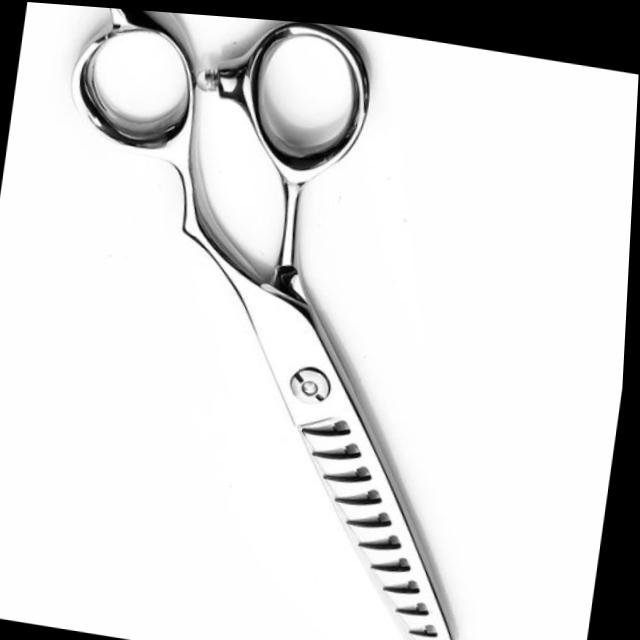scissor: (0, 0, 550, 640)
